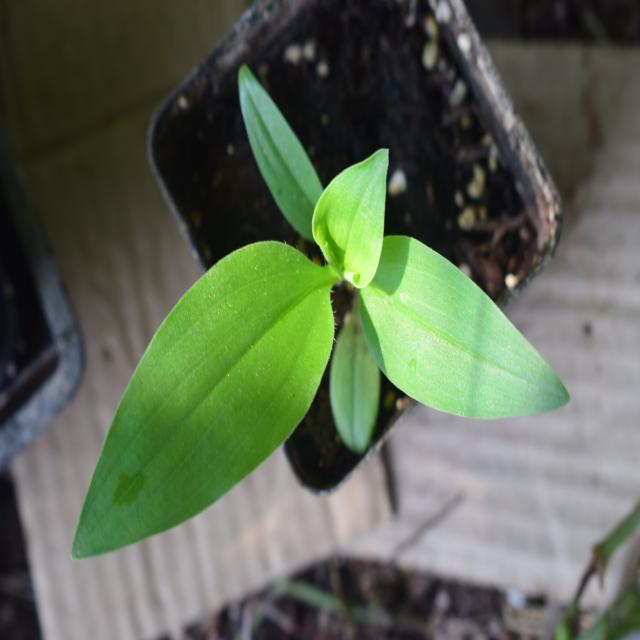Common Dayflower: (79, 108, 546, 540)
